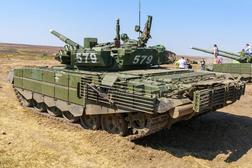t72: (8, 26, 242, 137)
